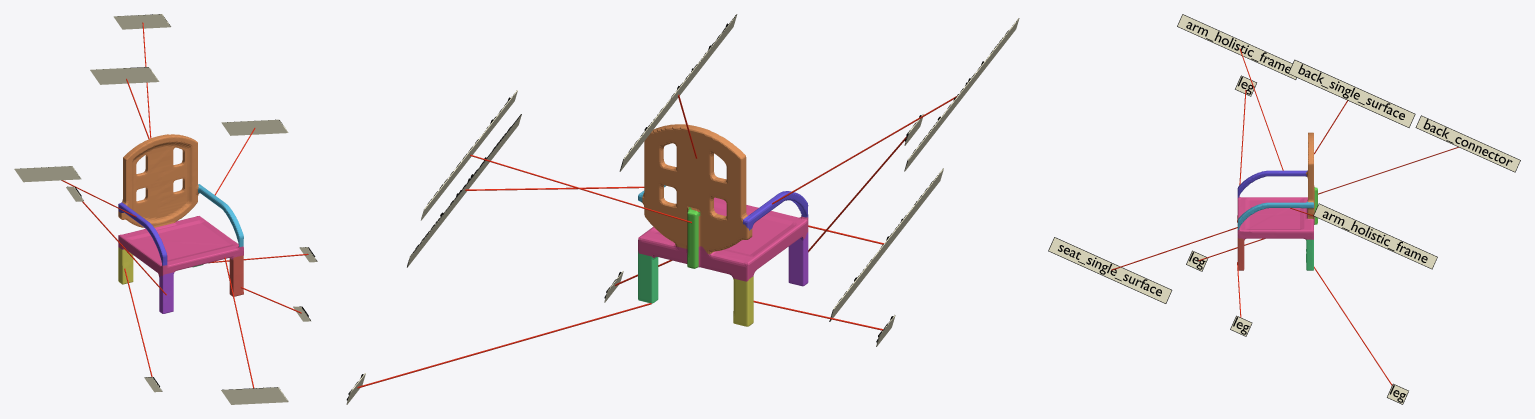
File: 38844-right-O.obj
3 renders of one model, left to right at view 1: azimuth 30°, elevation 25°; view 2: azimuth 150°, elevation 25°; view 3: azimuth 270°, elevation 25°, orthographic. The views are drawn at different scales.
Visible parts, largest first — view 1: 38844-P, label_back_single_surface_3_17, label_seat_single_surface_11_12, label_arm_holistic_frame_8_13, label_arm_holistic_frame_6_14, label_back_connector_4_16; view 2: 38844-P, label_back_single_surface_3_17, label_seat_single_surface_11_12, label_arm_holistic_frame_8_13, label_arm_holistic_frame_6_14, label_back_connector_4_16, leader_leg_15_8; view 3: 38844-P, label_back_single_surface_3_17, label_seat_single_surface_11_12, label_arm_holistic_frame_6_14, label_arm_holistic_frame_8_13, label_back_connector_4_16.
Part boxes in pixels (bbox=[...]): 38844-P: bbox=[118, 134, 243, 313]; label_back_single_surface_3_17: bbox=[90, 67, 159, 84]; label_seat_single_surface_11_12: bbox=[221, 387, 288, 404]; label_arm_holistic_frame_8_13: bbox=[14, 166, 80, 182]; label_arm_holistic_frame_6_14: bbox=[221, 119, 288, 135]; label_back_connector_4_16: bbox=[113, 14, 170, 29]; 38844-P: bbox=[638, 124, 808, 326]; label_back_single_surface_3_17: bbox=[619, 14, 737, 171]; label_seat_single_surface_11_12: bbox=[829, 168, 943, 321]; label_arm_holistic_frame_8_13: bbox=[904, 18, 1019, 171]; label_arm_holistic_frame_6_14: bbox=[407, 114, 521, 267]; label_back_connector_4_16: bbox=[421, 90, 517, 220]; leader_leg_15_8: bbox=[357, 303, 651, 388]; 38844-P: bbox=[1237, 132, 1317, 270]; label_back_single_surface_3_17: bbox=[1288, 59, 1415, 127]; label_seat_single_surface_11_12: bbox=[1048, 237, 1172, 303]; label_arm_holistic_frame_6_14: bbox=[1313, 203, 1437, 269]; label_arm_holistic_frame_8_13: bbox=[1177, 14, 1296, 79]; label_back_connector_4_16: bbox=[1415, 115, 1520, 172].
Bounding box in the file's own units: 4.25 × 3.28 × 5.56.
